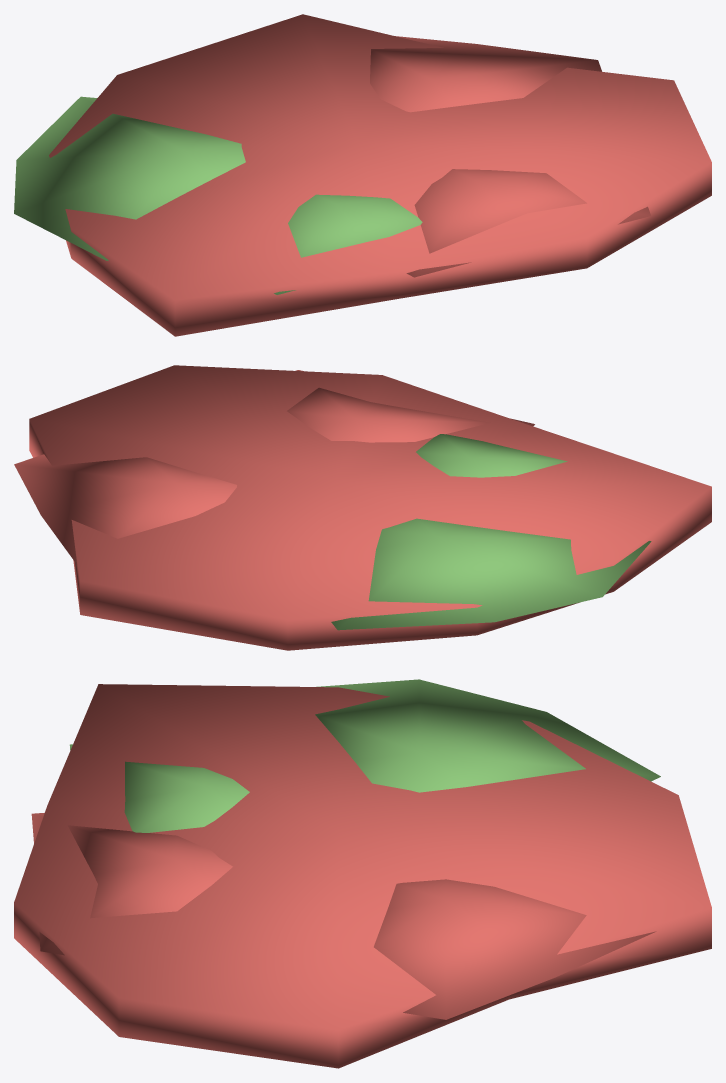
File: aquatic_red_azolla.glb
The picture shows the model from 3 angles, top to bottom: view 1: azimuth 30°, elevation 25°; view 2: azimuth 150°, elevation 25°; view 3: azimuth 270°, elevation 25°; orthographic projection. The views are drawn at different scales.
Parts seen in each view (by area): view 1: Flora_Red_Azolla; view 2: Flora_Red_Azolla; view 3: Flora_Red_Azolla.
Boxes of the visible parts, left/top/right/bottom form: Flora_Red_Azolla: left=14, top=14, right=711, bottom=336; Flora_Red_Azolla: left=14, top=365, right=711, bottom=650; Flora_Red_Azolla: left=14, top=679, right=711, bottom=1068.
Size of the model in its own units: 0.6293 by 0.06 by 0.5189.
